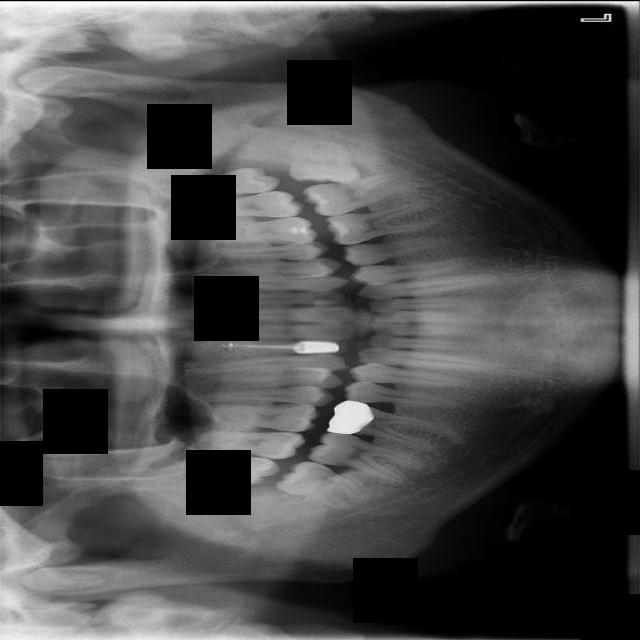3M ESPE Implant: (175, 444, 280, 487)
52: (326, 397, 376, 438), (269, 216, 320, 246), (296, 338, 346, 354)
73: (213, 340, 298, 352), (550, 40, 574, 44)
BioHorizons Implant: (188, 187, 303, 217)
BioLife Implant: (154, 162, 283, 204)
Biomet 3i Implant: (288, 136, 362, 184)
Blue Sky Bio Implant: (298, 169, 409, 220)
Caries: (194, 427, 304, 460)
Implant: (307, 425, 425, 487)
Keystone Dental Implant: (276, 450, 372, 517)
